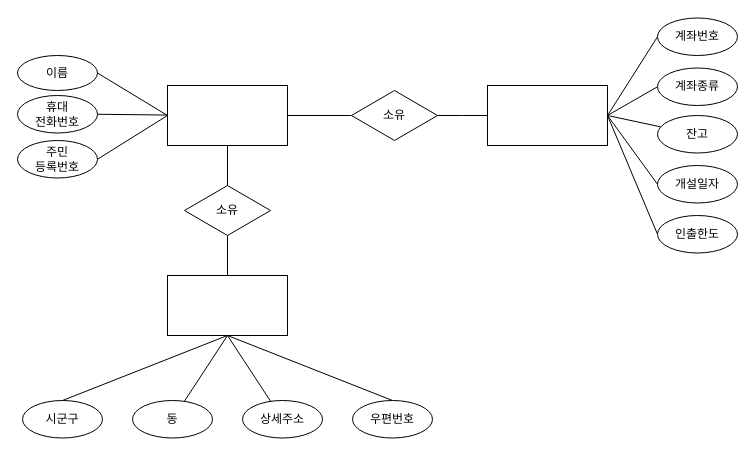
This 755x455 diagram has some shape labels left out. The centre of each missing label's shape, as x and y in pixels:
계좌: point 547,115
고객: point 227,115
주소: point 227,305
